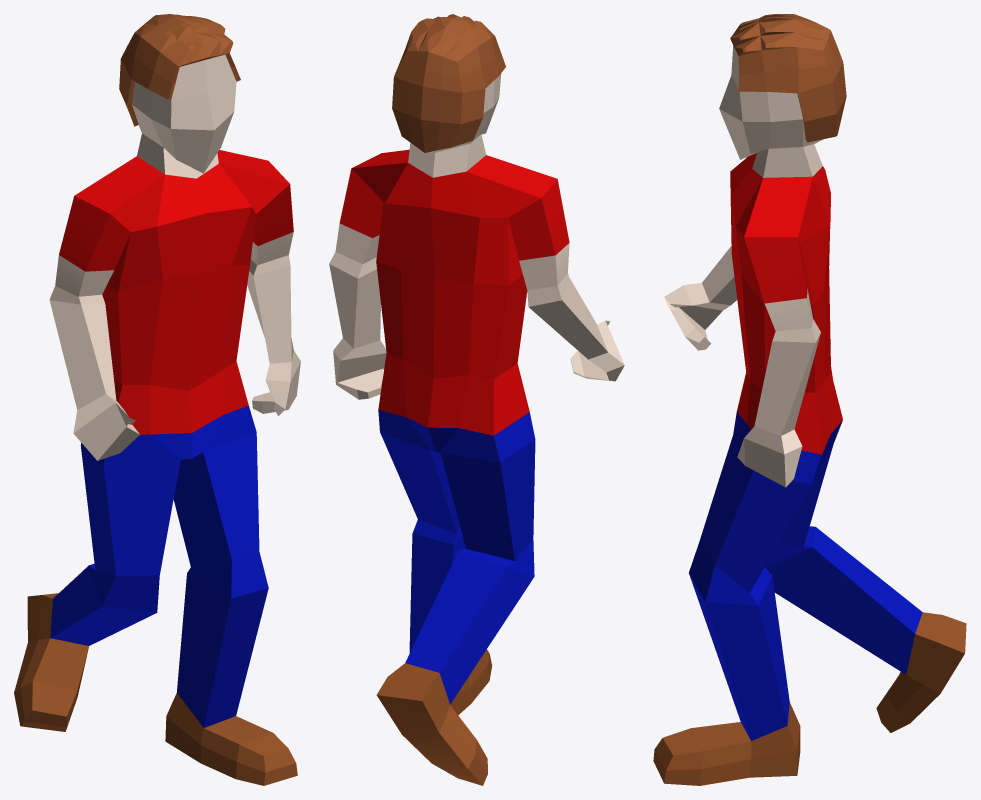
The model's file is Human_walking_15.fbx.
3 renders of one model, left to right at view 1: azimuth 30°, elevation 25°; view 2: azimuth 150°, elevation 25°; view 3: azimuth 270°, elevation 25°, orthographic. The views are drawn at different scales.
Visible parts, largest first — view 1: Person; view 2: Person; view 3: Person.
Part boxes in pixels (x1=…): Person: x1=14, y1=14, x2=300, y2=785; Person: x1=329, y1=14, x2=624, y2=785; Person: x1=653, y1=14, x2=966, y2=785.
Bounding box in the file's own units: 0.599 × 1.58 × 0.6023.
